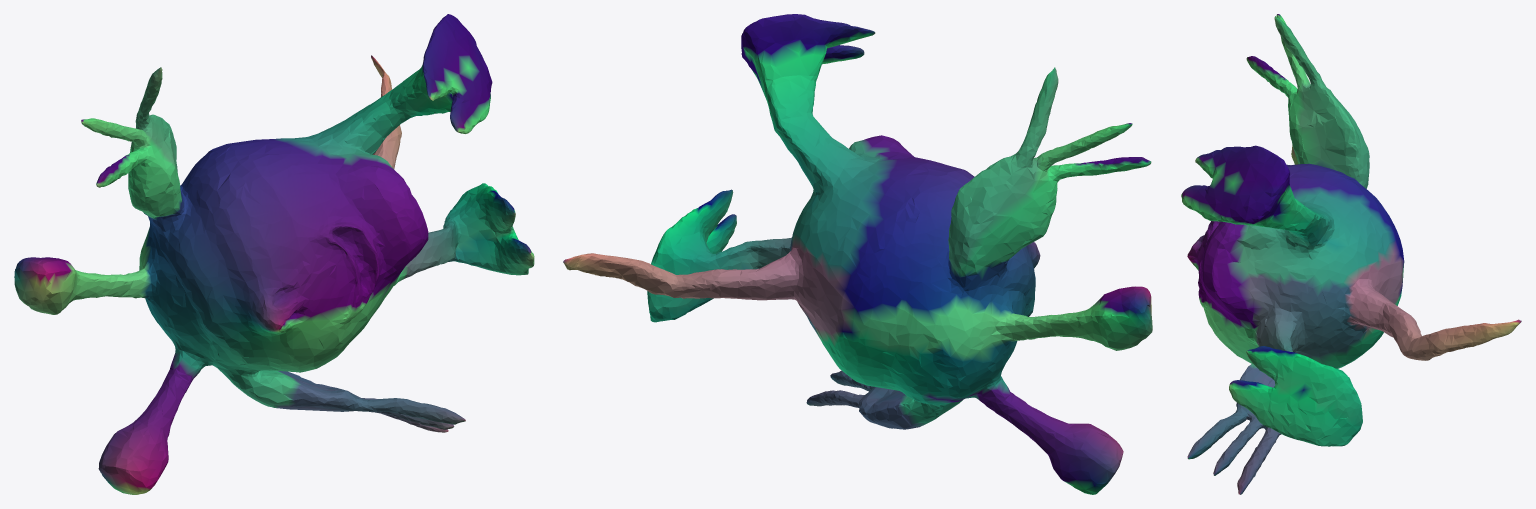
The model's file is alien-12.off.obj.
3 views of the same model, side by side, from view 1: azimuth 30°, elevation 25°; view 2: azimuth 150°, elevation 25°; view 3: azimuth 270°, elevation 25° (orthographic). The views are drawn at different scales.
Size of the model in its own units: 1.4 by 1.13 by 0.9519.
